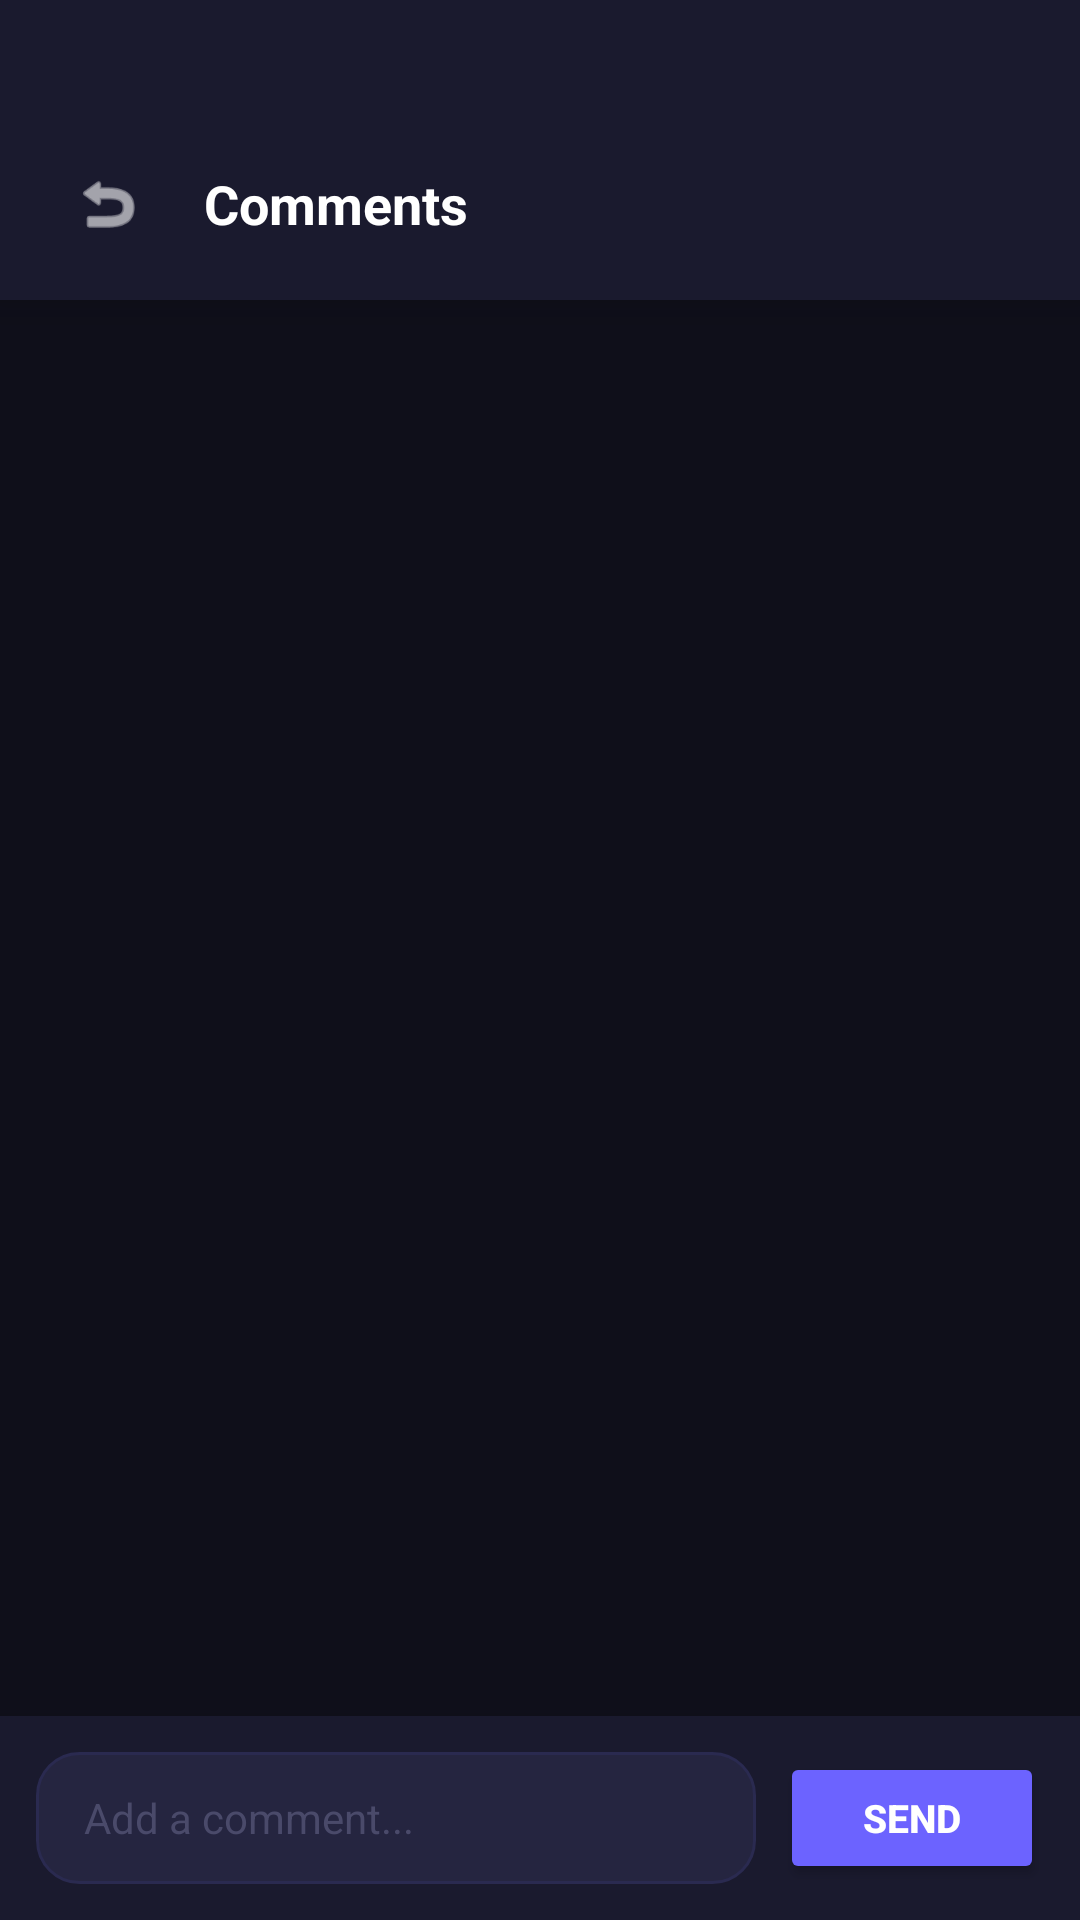

Screen size 1080x1920. Icon name, then its center in pixels as (x,y):
revert: (109,204)
